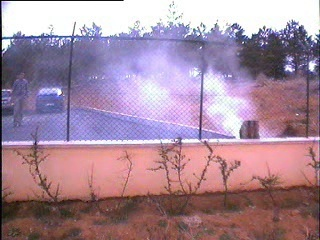smoke: (107, 45, 275, 138)
